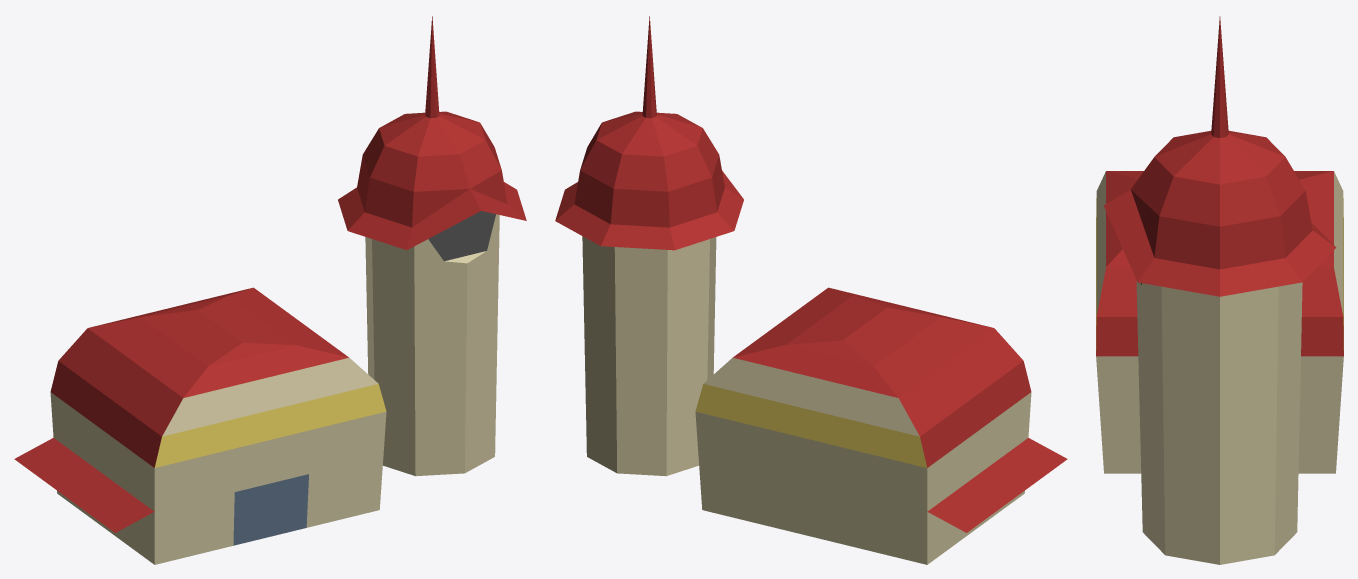
File: xFarm.fbx
3 renders of one model, left to right at view 1: azimuth 30°, elevation 25°; view 2: azimuth 150°, elevation 25°; view 3: azimuth 270°, elevation 25°, orthographic. The views are drawn at different scales.
Visible parts, largest first — view 1: Cube, Cube.001, Base, Roof, Cube.003, Cube.002, Window; view 2: Cube, Cube.001, Base, Roof, Cube.003; view 3: Base, Roof, Cube, Cube.001.
Part boxes in pixels (x1=…): Cube: x1=50, y1=357, x2=386, y2=564; Cube.001: x1=14, y1=287, x2=348, y2=532; Base: x1=365, y1=214, x2=499, y2=476; Roof: x1=338, y1=16, x2=526, y2=250; Cube.003: x1=154, y1=384, x2=386, y2=467; Cube.002: x1=233, y1=474, x2=308, y2=545; Window: x1=428, y1=211, x2=495, y2=261; Cube: x1=695, y1=357, x2=1031, y2=564; Cube.001: x1=733, y1=287, x2=1067, y2=532; Base: x1=582, y1=236, x2=716, y2=476; Roof: x1=555, y1=16, x2=743, y2=250; Cube.003: x1=695, y1=384, x2=927, y2=467; Base: x1=1136, y1=280, x2=1302, y2=564; Roof: x1=1103, y1=16, x2=1336, y2=296; Cube: x1=1096, y1=171, x2=1343, y2=473; Cube.001: x1=1096, y1=171, x2=1343, y2=356.
Bounding box in the file's own units: 8040 × 7399 × 3206.
